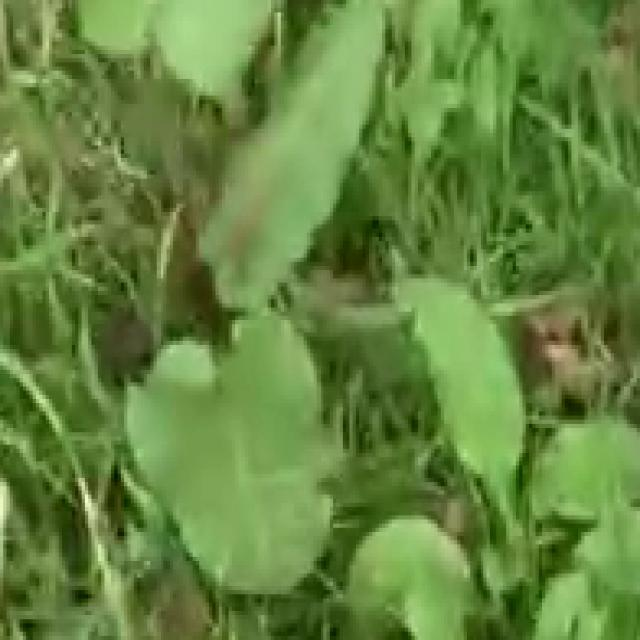organic waste: (117, 224, 640, 639), (49, 0, 454, 299)
